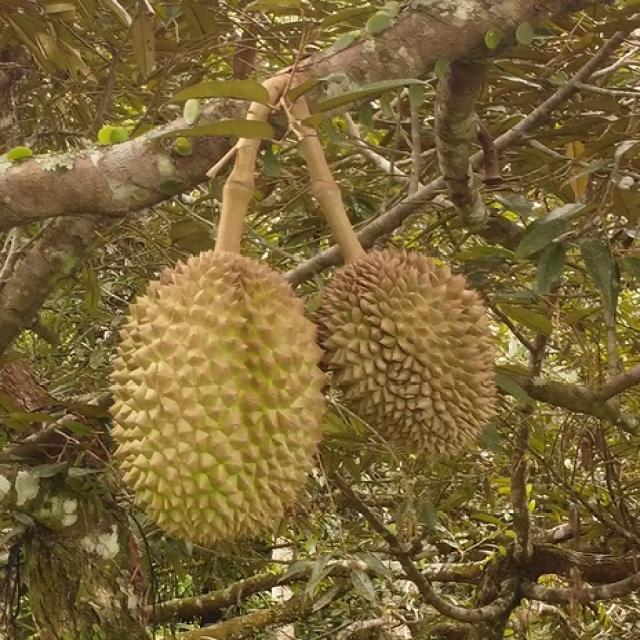mature: (109, 248, 324, 544), (313, 249, 504, 464)
